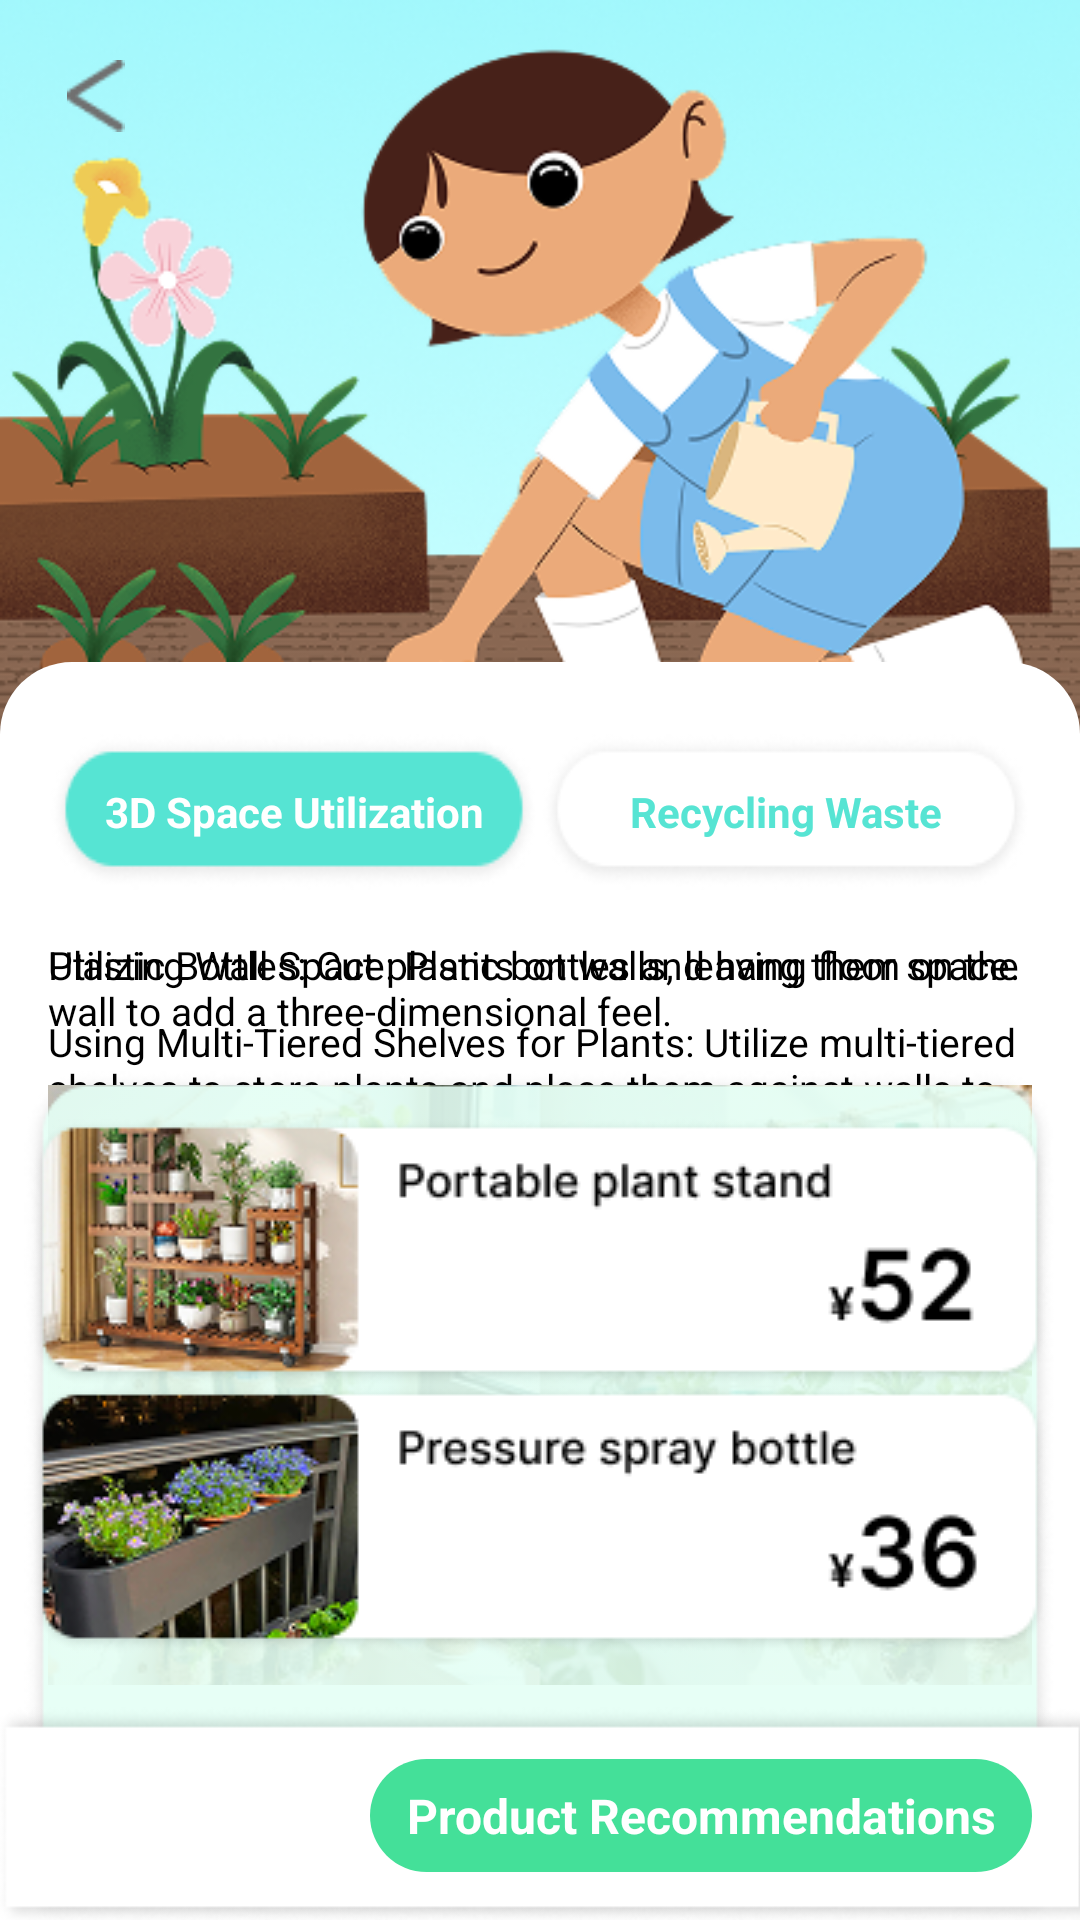

Named icons in this screenshot (1080*1920) and their centers, point (x, y):
back: point (96, 96)
